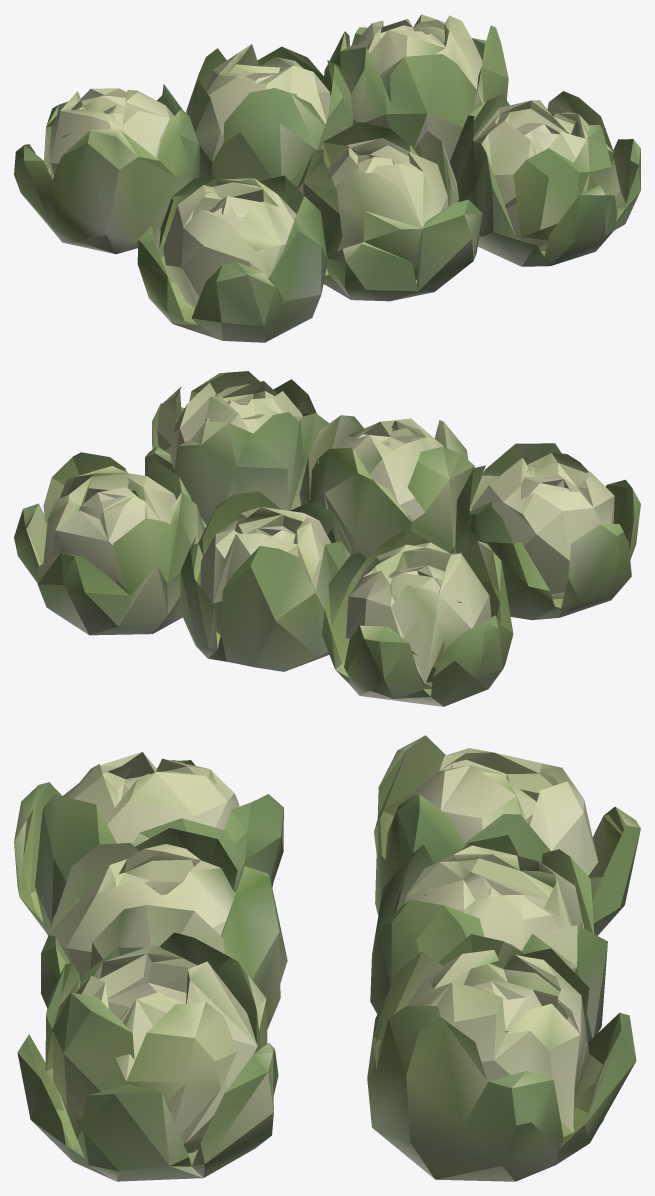
Rendered from lettuce.glb.
3 renders of one model, top to bottom at view 1: azimuth 30°, elevation 25°; view 2: azimuth 150°, elevation 25°; view 3: azimuth 270°, elevation 25°, orthographic. The views are drawn at different scales.
Parts seen in each view (by area): view 1: geometry_0; view 2: geometry_0; view 3: geometry_0.
Part boxes in pixels (left/top/right/bottom): geometry_0: left=14, top=14, right=640, bottom=342; geometry_0: left=14, top=371, right=640, bottom=706; geometry_0: left=14, top=735, right=640, bottom=1181.
Bounding box in the file's own units: 1.6 × 0.4084 × 1.3.
